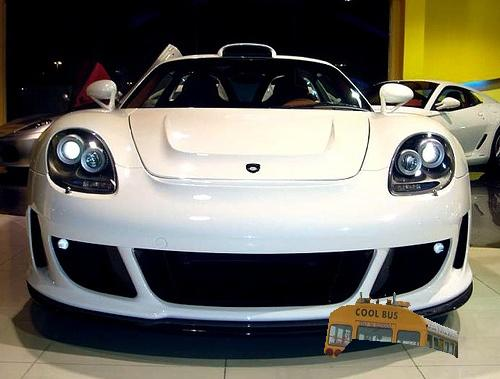tampered: (325, 293, 458, 358)
